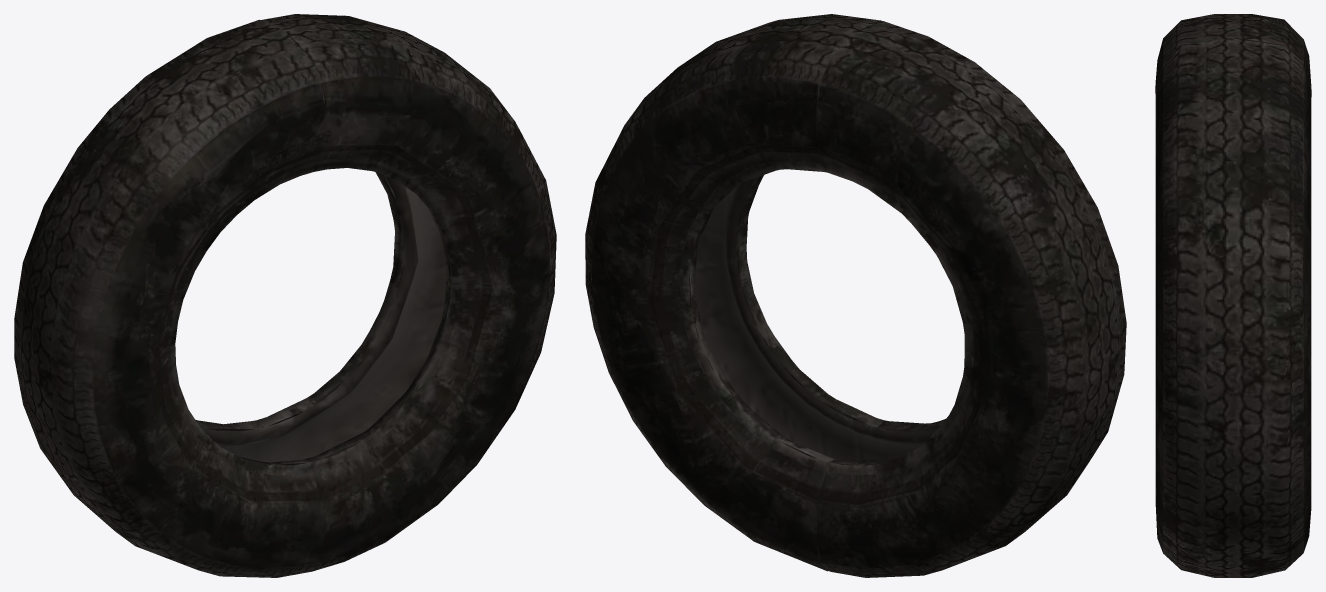
The model's file is old_tyre.glb.
The picture shows the model from 3 angles, left to right: view 1: azimuth 30°, elevation 25°; view 2: azimuth 150°, elevation 25°; view 3: azimuth 270°, elevation 25°; orthographic projection. The views are drawn at different scales.
Parts seen in each view (by area): view 1: old_tyre; view 2: old_tyre; view 3: old_tyre.
Boxes of the visible parts, x1=… form: old_tyre: x1=14, y1=14, x2=556, y2=577; old_tyre: x1=585, y1=14, x2=1126, y2=577; old_tyre: x1=1155, y1=14, x2=1311, y2=577.
Size of the model in its own units: 0.6002 by 0.6035 by 0.1661.
Materials: 1 (1 with a texture image).
